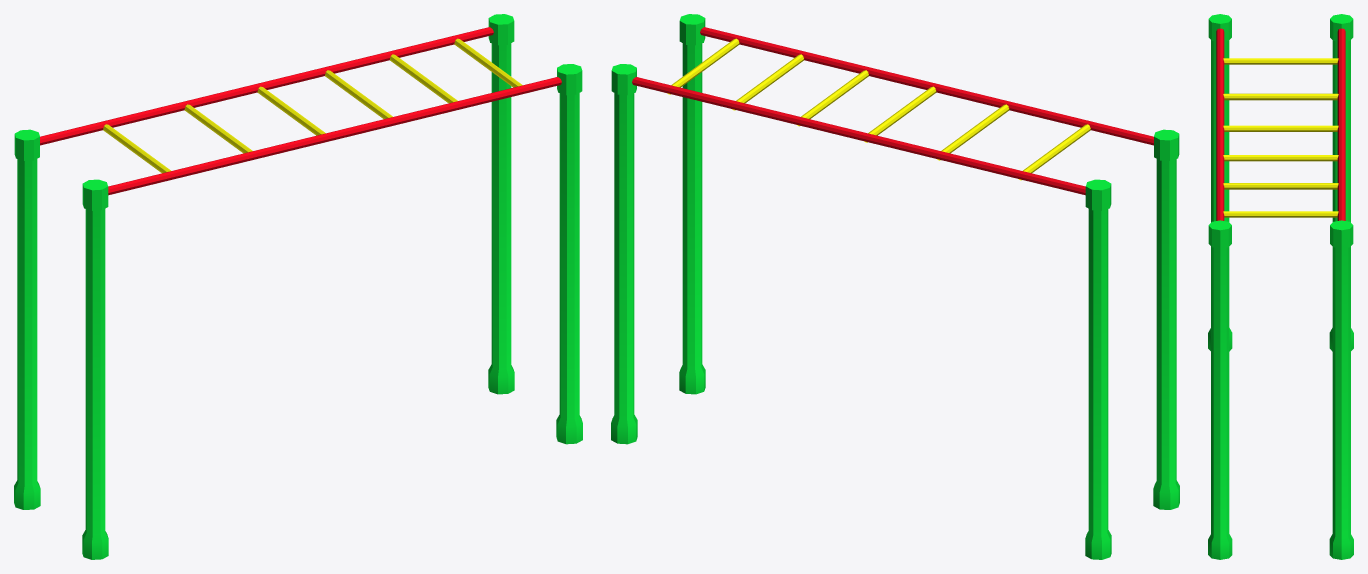
The model's file is BrinquedoEscalevelLOD0.fbx.
3 views of the same model, side by side, from view 1: azimuth 30°, elevation 25°; view 2: azimuth 150°, elevation 25°; view 3: azimuth 270°, elevation 25° (orthographic). The views are drawn at different scales.
Parts seen in each view (by area): view 1: BrinquedoEscalavelLOD0; view 2: BrinquedoEscalavelLOD0; view 3: BrinquedoEscalavelLOD0.
Boxes of the visible parts, bbox=[...] form: BrinquedoEscalavelLOD0: bbox=[14, 14, 582, 559]; BrinquedoEscalavelLOD0: bbox=[611, 14, 1179, 559]; BrinquedoEscalavelLOD0: bbox=[1208, 14, 1353, 559].
Size of the model in its own units: 256 by 181 by 72.83.
